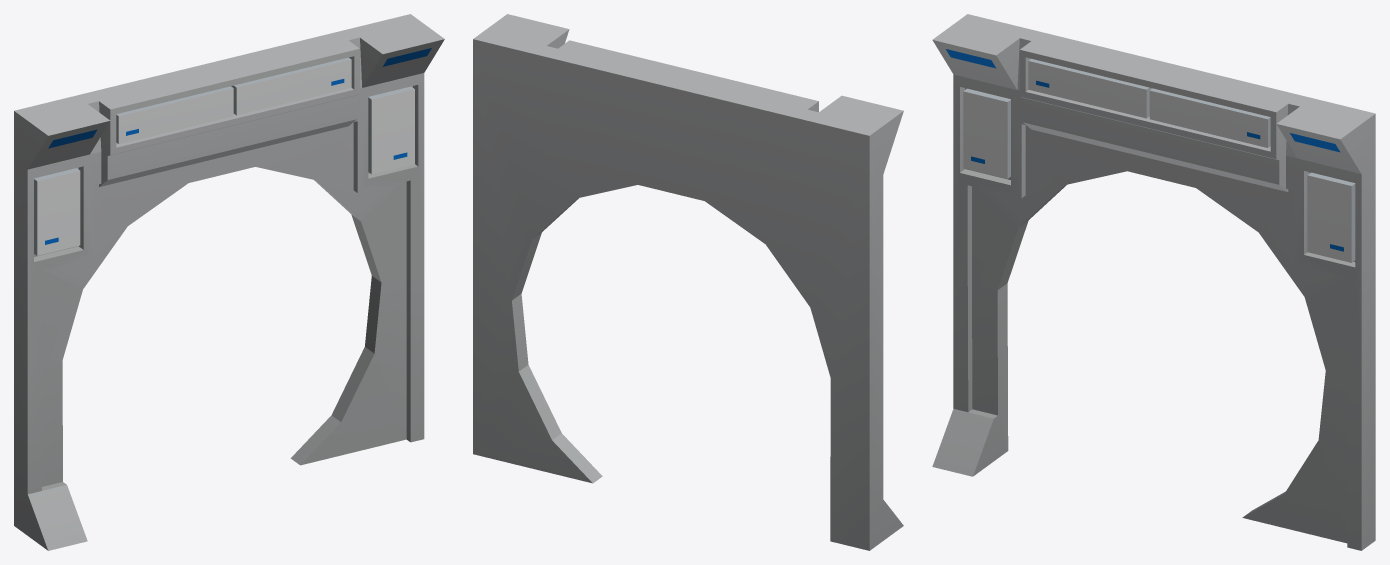
File: Wall_type_A_066.fbx
3 views of the same model, side by side, from view 1: azimuth 30°, elevation 25°; view 2: azimuth 150°, elevation 25°; view 3: azimuth 330°, elevation 25° (orthographic). The views are drawn at different scales.
Visible parts, largest first — view 1: Wall_type_A_066; view 2: Wall_type_A_066; view 3: Wall_type_A_066.
Boxes of the visible parts, x1,y1,x2,y2 form: Wall_type_A_066: (14, 14, 444, 550); Wall_type_A_066: (473, 14, 903, 550); Wall_type_A_066: (932, 14, 1375, 550).
Size of the model in its own units: 400 by 60 by 400.
